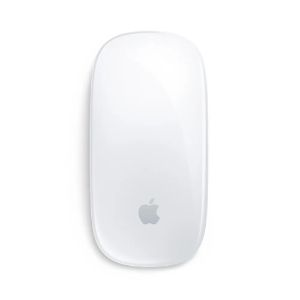mouse: (83, 29, 211, 271)
